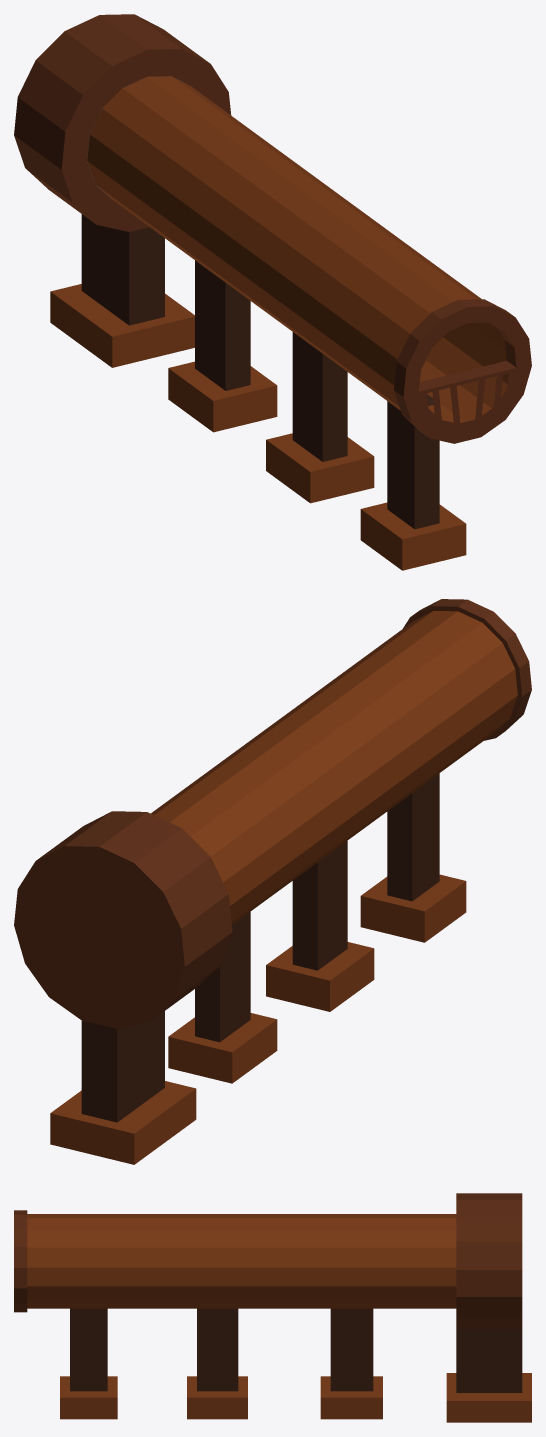
Rendered from Pipeline2.fbx.
3 views of the same model, one above another, from view 1: azimuth 30°, elevation 25°; view 2: azimuth 150°, elevation 25°; view 3: azimuth 270°, elevation 25° (orthographic). The views are drawn at different scales.
Parts seen in each view (by area): view 1: Cylinder; view 2: Cylinder; view 3: Cylinder.
Part boxes in pixels (left/top/right/bottom): Cylinder: left=14, top=14, right=531, bottom=570; Cylinder: left=14, top=599, right=531, bottom=1164; Cylinder: left=14, top=1193, right=531, bottom=1422.
Size of the model in its own units: 1266 by 2144 by 4818.
Materials: 1 (1 with a texture image).
